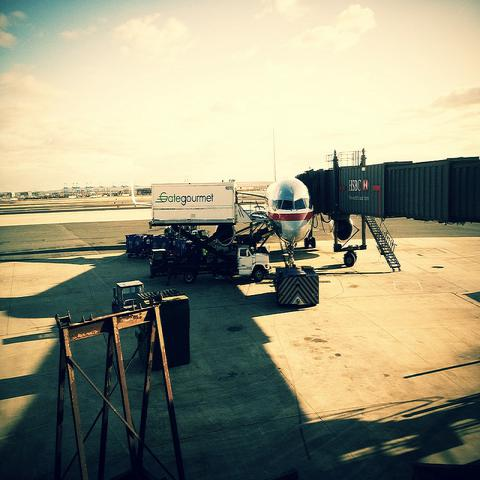truck: (111, 280, 187, 314), (217, 244, 269, 284), (125, 232, 153, 258)
